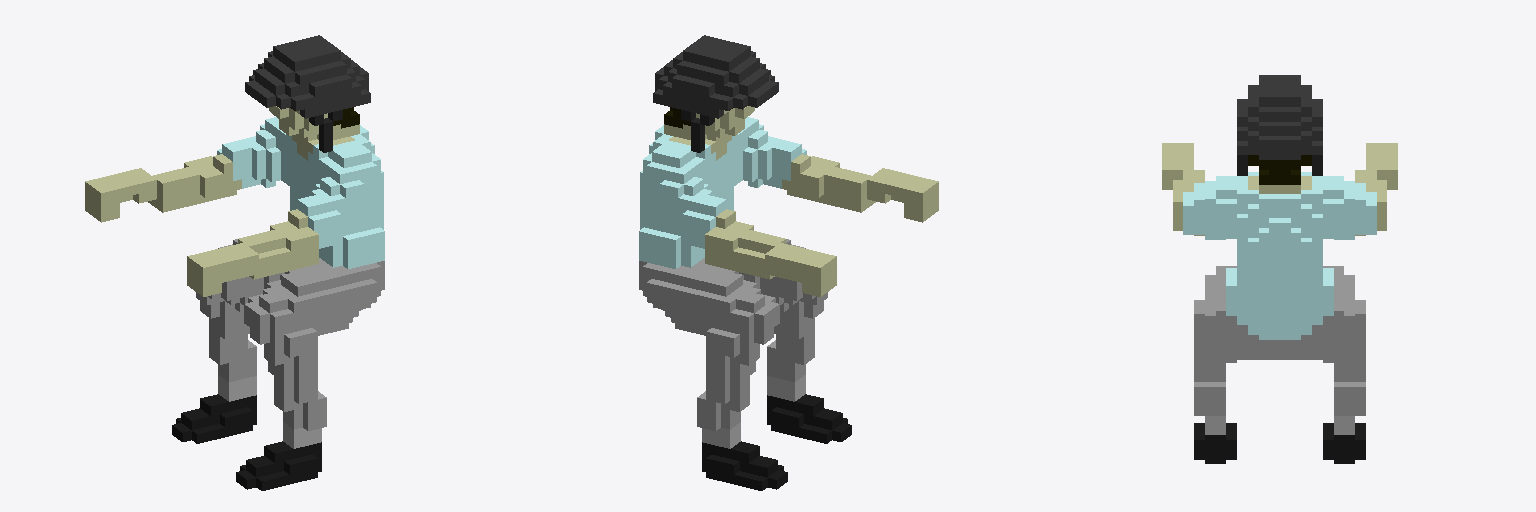
3 views of the same model, side by side, from view 1: azimuth 30°, elevation 25°; view 2: azimuth 150°, elevation 25°; view 3: azimuth 270°, elevation 25° (orthographic).
Parts seen in each view (by area): view 1: Rider; view 2: Rider; view 3: Rider.
Part boxes in pixels (left/top/right/bottom): Rider: left=85, top=35, right=384, bottom=490; Rider: left=639, top=35, right=938, bottom=490; Rider: left=1162, top=75, right=1397, bottom=463.
Size of the model in its own units: 2.4 by 4 by 2.2.
1 materials, 1 textured.